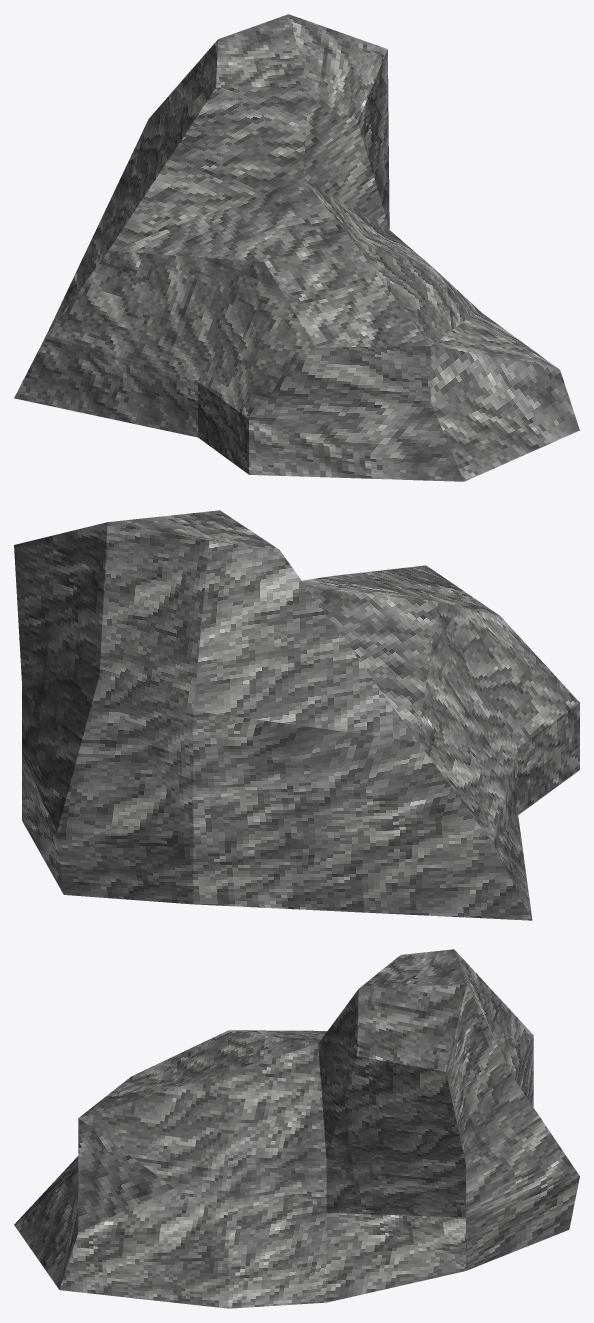
The model's file is rock.glb.
3 renders of one model, top to bottom at view 1: azimuth 30°, elevation 25°; view 2: azimuth 150°, elevation 25°; view 3: azimuth 270°, elevation 25°, orthographic. The views are drawn at different scales.
Visible parts, largest first — view 1: Cube.004; view 2: Cube.004; view 3: Cube.004.
Boxes of the visible parts, x1=… form: Cube.004: x1=14, y1=14, x2=579, y2=481; Cube.004: x1=14, y1=510, x2=579, y2=920; Cube.004: x1=14, y1=949, x2=579, y2=1308.
Bounding box in the file's own units: 4.89 × 3.03 × 5.79.
1 material, 1 textured.
